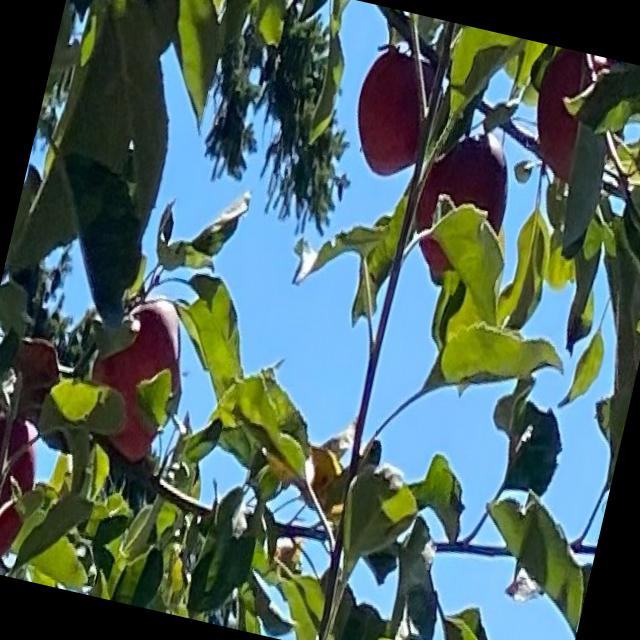Apples: (401, 122, 519, 295), (76, 290, 192, 463), (516, 44, 636, 192), (343, 46, 446, 184), (0, 409, 44, 568)
